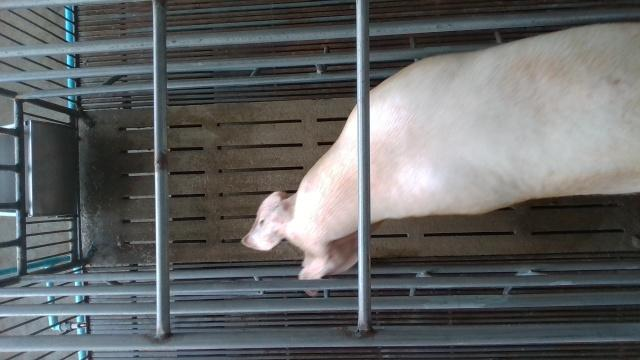sow-stand: (242, 22, 640, 295)
